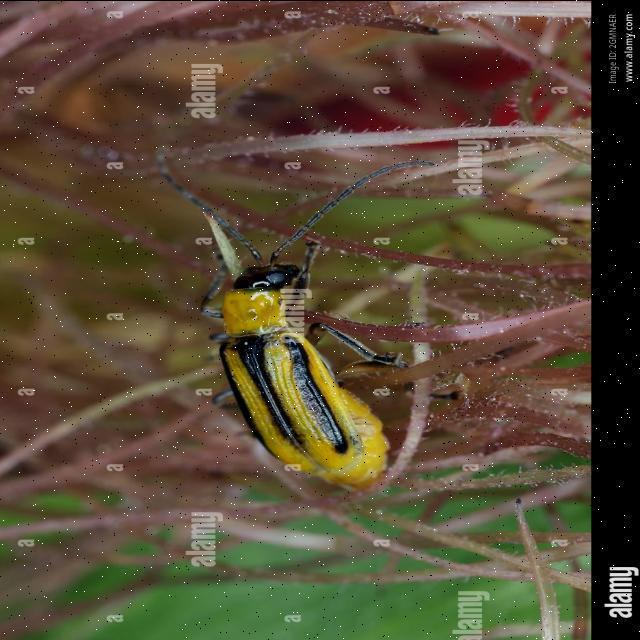trips: (154, 159, 438, 491)
